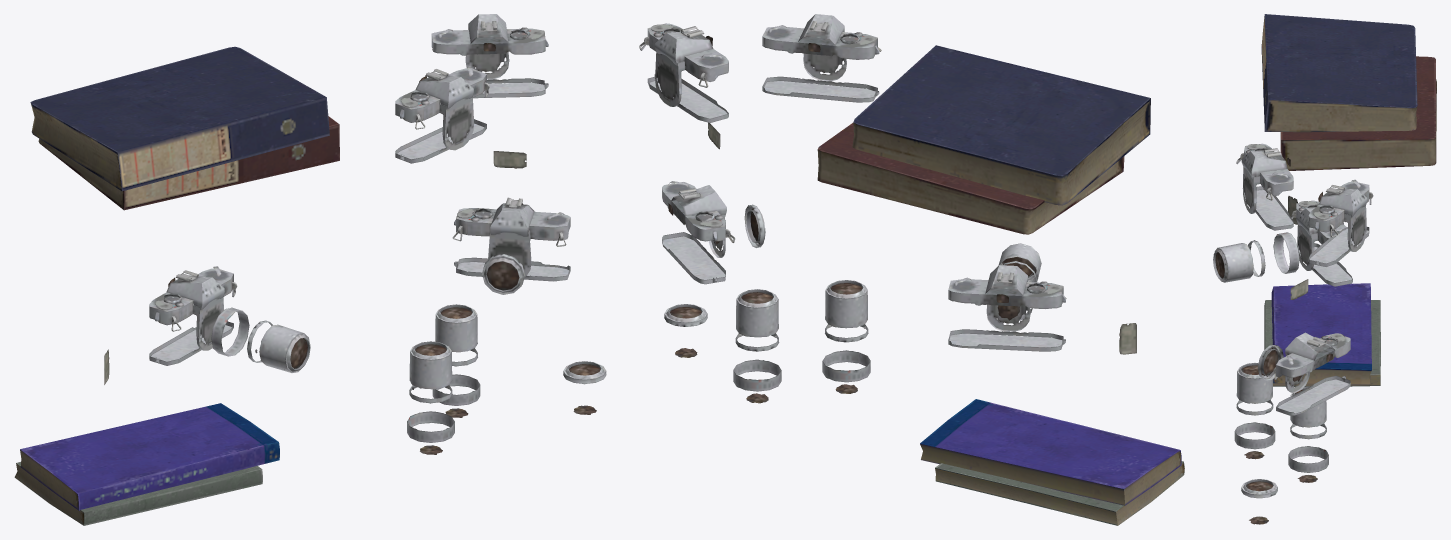
Rendered from sm39_002_cameracabinetset01a.fbx.
The picture shows the model from 3 angles, left to right: view 1: azimuth 30°, elevation 25°; view 2: azimuth 150°, elevation 25°; view 3: azimuth 270°, elevation 25°; orthographic projection. The views are drawn at different scales.
Visible parts, largest first — view 1: LOD_1_Group_2_Sub_1__sm36_007_PaperWork01A_A_Mat, LOD_1_Group_1_Sub_1__sm36_007_PaperWork01A_A_Mat, LOD_1_Group_4_Sub_1__sm36_007_PaperWork01A_A_Mat, LOD_1_Group_9_Sub_1__sm32_002_ReflexCamera01A_A_Mat, LOD_1_Group_13_Sub_1__sm32_002_ReflexCamera01A_A_Mat, LOD_1_Group_11_Sub_1__sm32_002_ReflexCamera01A_A_Mat, LOD_1_Group_5_Sub_1__sm32_002_ReflexCamera01A_A_Mat, LOD_1_Group_3_Sub_1__sm36_007_PaperWork01A_A_Mat, LOD_1_Group_16_Sub_1__sm32_002_ReflexCamera01A_A_Mat, LOD_1_Group_6_Sub_1__sm32_002_ReflexCamera01A_A_Mat, LOD_1_Group_17_Sub_1__sm32_002_ReflexCamera01A_A_Mat, LOD_1_Group_14_Sub_1__sm32_002_ReflexCamera01A_A_Mat (+1 smaller); view 2: LOD_1_Group_2_Sub_1__sm36_007_PaperWork01A_A_Mat, LOD_1_Group_1_Sub_1__sm36_007_PaperWork01A_A_Mat, LOD_1_Group_4_Sub_1__sm36_007_PaperWork01A_A_Mat, LOD_1_Group_9_Sub_1__sm32_002_ReflexCamera01A_A_Mat, LOD_1_Group_5_Sub_1__sm32_002_ReflexCamera01A_A_Mat, LOD_1_Group_11_Sub_1__sm32_002_ReflexCamera01A_A_Mat, LOD_1_Group_13_Sub_1__sm32_002_ReflexCamera01A_A_Mat, LOD_1_Group_3_Sub_1__sm36_007_PaperWork01A_A_Mat, LOD_1_Group_17_Sub_1__sm32_002_ReflexCamera01A_A_Mat, LOD_1_Group_16_Sub_1__sm32_002_ReflexCamera01A_A_Mat, LOD_1_Group_6_Sub_1__sm32_002_ReflexCamera01A_A_Mat, LOD_1_Group_18_Sub_1__sm32_002_ReflexCamera01A_A_Mat (+1 smaller); view 3: LOD_1_Group_2_Sub_1__sm36_007_PaperWork01A_A_Mat, LOD_1_Group_4_Sub_1__sm36_007_PaperWork01A_A_Mat, LOD_1_Group_1_Sub_1__sm36_007_PaperWork01A_A_Mat, LOD_1_Group_13_Sub_1__sm32_002_ReflexCamera01A_A_Mat, LOD_1_Group_11_Sub_1__sm32_002_ReflexCamera01A_A_Mat, LOD_1_Group_9_Sub_1__sm32_002_ReflexCamera01A_A_Mat, LOD_1_Group_6_Sub_1__sm32_002_ReflexCamera01A_A_Mat, LOD_1_Group_16_Sub_1__sm32_002_ReflexCamera01A_A_Mat, LOD_1_Group_5_Sub_1__sm32_002_ReflexCamera01A_A_Mat, LOD_1_Group_17_Sub_1__sm32_002_ReflexCamera01A_A_Mat, LOD_1_Group_3_Sub_1__sm36_007_PaperWork01A_A_Mat, LOD_1_Group_18_Sub_1__sm32_002_ReflexCamera01A_A_Mat (+1 smaller).
Part boxes in pixels (bbox=[...]): LOD_1_Group_2_Sub_1__sm36_007_PaperWork01A_A_Mat: bbox=[30, 46, 329, 191]; LOD_1_Group_1_Sub_1__sm36_007_PaperWork01A_A_Mat: bbox=[20, 403, 279, 510]; LOD_1_Group_4_Sub_1__sm36_007_PaperWork01A_A_Mat: bbox=[38, 116, 339, 210]; LOD_1_Group_9_Sub_1__sm32_002_ReflexCamera01A_A_Mat: bbox=[395, 66, 489, 163]; LOD_1_Group_13_Sub_1__sm32_002_ReflexCamera01A_A_Mat: bbox=[452, 197, 570, 281]; LOD_1_Group_11_Sub_1__sm32_002_ReflexCamera01A_A_Mat: bbox=[431, 14, 548, 98]; LOD_1_Group_5_Sub_1__sm32_002_ReflexCamera01A_A_Mat: bbox=[149, 266, 237, 365]; LOD_1_Group_3_Sub_1__sm36_007_PaperWork01A_A_Mat: bbox=[14, 462, 262, 525]; LOD_1_Group_16_Sub_1__sm32_002_ReflexCamera01A_A_Mat: bbox=[407, 341, 454, 454]; LOD_1_Group_6_Sub_1__sm32_002_ReflexCamera01A_A_Mat: bbox=[211, 307, 310, 372]; LOD_1_Group_17_Sub_1__sm32_002_ReflexCamera01A_A_Mat: bbox=[432, 304, 480, 417]; LOD_1_Group_14_Sub_1__sm32_002_ReflexCamera01A_A_Mat: bbox=[482, 254, 525, 294]; LOD_1_Group_2_Sub_1__sm36_007_PaperWork01A_A_Mat: bbox=[852, 45, 1150, 205]; LOD_1_Group_1_Sub_1__sm36_007_PaperWork01A_A_Mat: bbox=[920, 399, 1181, 505]; LOD_1_Group_4_Sub_1__sm36_007_PaperWork01A_A_Mat: bbox=[817, 123, 1124, 234]; LOD_1_Group_9_Sub_1__sm32_002_ReflexCamera01A_A_Mat: bbox=[762, 14, 881, 102]; LOD_1_Group_5_Sub_1__sm32_002_ReflexCamera01A_A_Mat: bbox=[948, 265, 1066, 351]; LOD_1_Group_11_Sub_1__sm32_002_ReflexCamera01A_A_Mat: bbox=[639, 23, 728, 122]; LOD_1_Group_13_Sub_1__sm32_002_ReflexCamera01A_A_Mat: bbox=[662, 181, 735, 284]; LOD_1_Group_3_Sub_1__sm36_007_PaperWork01A_A_Mat: bbox=[935, 461, 1184, 525]; LOD_1_Group_17_Sub_1__sm32_002_ReflexCamera01A_A_Mat: bbox=[733, 289, 781, 403]; LOD_1_Group_16_Sub_1__sm32_002_ReflexCamera01A_A_Mat: bbox=[822, 280, 870, 393]; LOD_1_Group_6_Sub_1__sm32_002_ReflexCamera01A_A_Mat: bbox=[997, 243, 1041, 320]; LOD_1_Group_18_Sub_1__sm32_002_ReflexCamera01A_A_Mat: bbox=[664, 304, 707, 357]; LOD_1_Group_2_Sub_1__sm36_007_PaperWork01A_A_Mat: bbox=[1261, 14, 1417, 132]; LOD_1_Group_4_Sub_1__sm36_007_PaperWork01A_A_Mat: bbox=[1280, 56, 1436, 170]; LOD_1_Group_1_Sub_1__sm36_007_PaperWork01A_A_Mat: bbox=[1271, 283, 1371, 384]; LOD_1_Group_13_Sub_1__sm32_002_ReflexCamera01A_A_Mat: bbox=[1273, 332, 1350, 415]; LOD_1_Group_11_Sub_1__sm32_002_ReflexCamera01A_A_Mat: bbox=[1308, 179, 1373, 266]; LOD_1_Group_9_Sub_1__sm32_002_ReflexCamera01A_A_Mat: bbox=[1236, 143, 1293, 230]; LOD_1_Group_6_Sub_1__sm32_002_ReflexCamera01A_A_Mat: bbox=[1213, 232, 1299, 282]; LOD_1_Group_16_Sub_1__sm32_002_ReflexCamera01A_A_Mat: bbox=[1234, 363, 1275, 459]; LOD_1_Group_5_Sub_1__sm32_002_ReflexCamera01A_A_Mat: bbox=[1290, 200, 1352, 286]; LOD_1_Group_17_Sub_1__sm32_002_ReflexCamera01A_A_Mat: bbox=[1288, 386, 1328, 482]; LOD_1_Group_3_Sub_1__sm36_007_PaperWork01A_A_Mat: bbox=[1264, 300, 1380, 386]; LOD_1_Group_18_Sub_1__sm32_002_ReflexCamera01A_A_Mat: bbox=[1241, 479, 1277, 524].
Size of the model in its own units: 0.797 by 0.541 by 0.3476.
